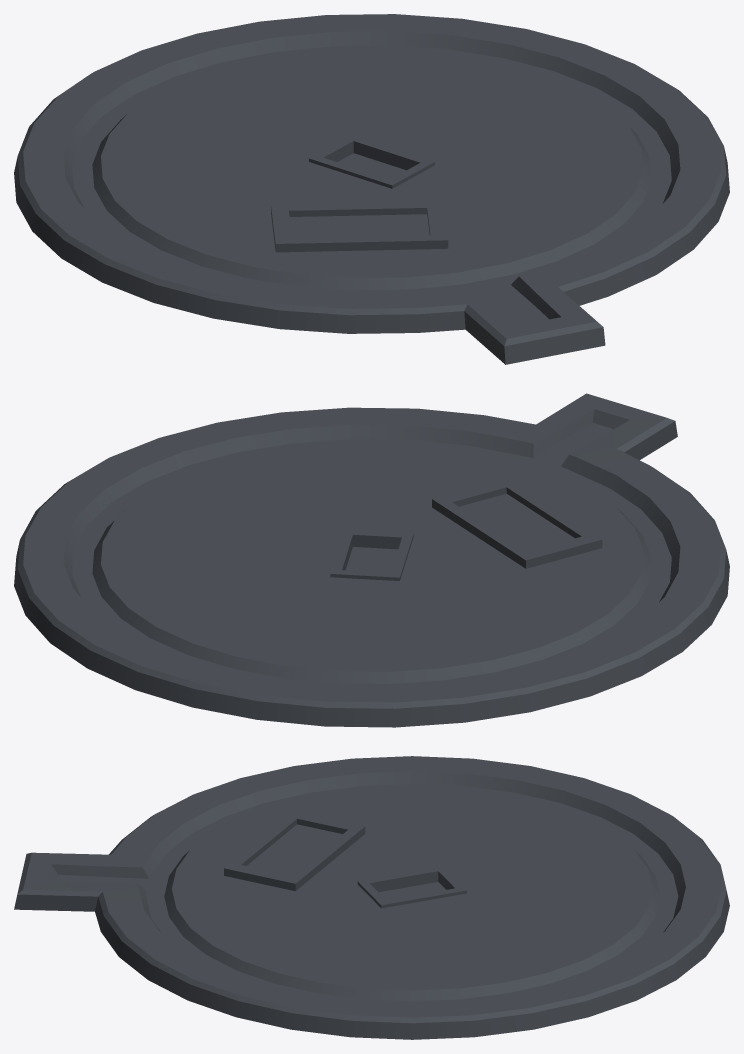
Rendered from Manhole.fbx.
The picture shows the model from 3 angles, top to bottom: view 1: azimuth 30°, elevation 25°; view 2: azimuth 150°, elevation 25°; view 3: azimuth 270°, elevation 25°; orthographic projection. The views are drawn at different scales.
Parts seen in each view (by area): view 1: plaqueEgout.002; view 2: plaqueEgout.002; view 3: plaqueEgout.002.
Boxes of the visible parts, left/top/right/bottom form: plaqueEgout.002: left=14, top=14, right=729, bottom=364; plaqueEgout.002: left=14, top=393, right=729, bottom=727; plaqueEgout.002: left=14, top=756, right=729, bottom=1039.
Bounding box in the file's own units: 120 × 5.14 × 135.
